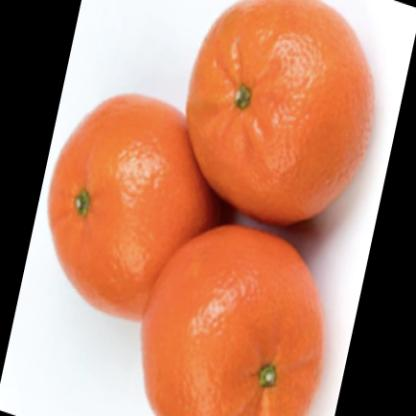fresh: (49, 3, 359, 416)
